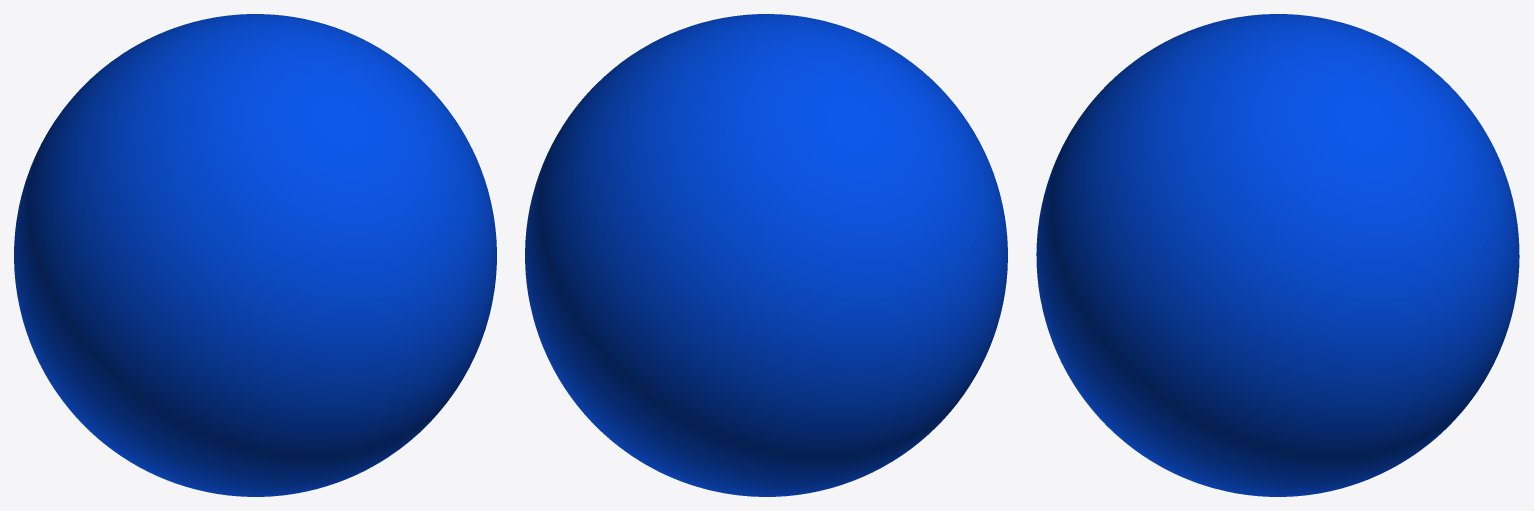
File: Hydrogen.gltf
The picture shows the model from 3 angles, left to right: view 1: azimuth 30°, elevation 25°; view 2: azimuth 150°, elevation 25°; view 3: azimuth 270°, elevation 25°; orthographic projection.
Visible parts, largest first — view 1: node_id5.001; view 2: node_id5.001; view 3: node_id5.001.
Part boxes in pixels (x1,y1,x2,y2): node_id5.001: (14, 14, 496, 496); node_id5.001: (525, 14, 1007, 496); node_id5.001: (1036, 14, 1519, 496).
Bounding box in the file's own units: 0.1769 × 0.1769 × 0.1769.
